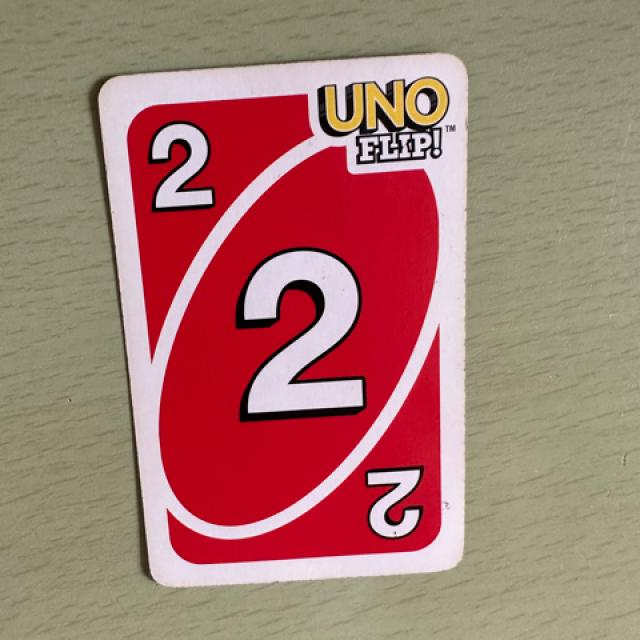lred-2: (120, 93, 243, 232)
